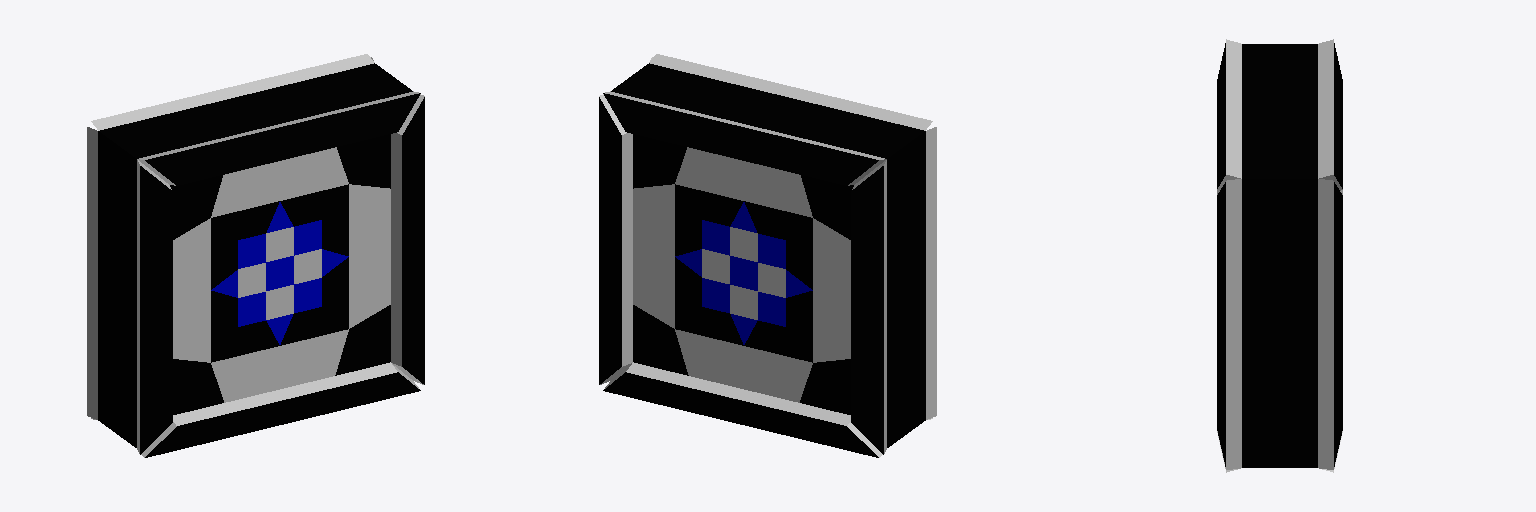
File: Door.obj
3 renders of one model, left to right at view 1: azimuth 30°, elevation 25°; view 2: azimuth 150°, elevation 25°; view 3: azimuth 270°, elevation 25°, orthographic.
Visible parts, largest first — view 1: Cube; view 2: Cube; view 3: Cube.
Boxes of the visible parts, x1=… form: Cube: x1=87, y1=54, x2=424, y2=457; Cube: x1=599, y1=54, x2=936, y2=457; Cube: x1=1217, y1=39, x2=1342, y2=472.
Size of the model in its own units: 2.06 by 2.06 by 0.7916.